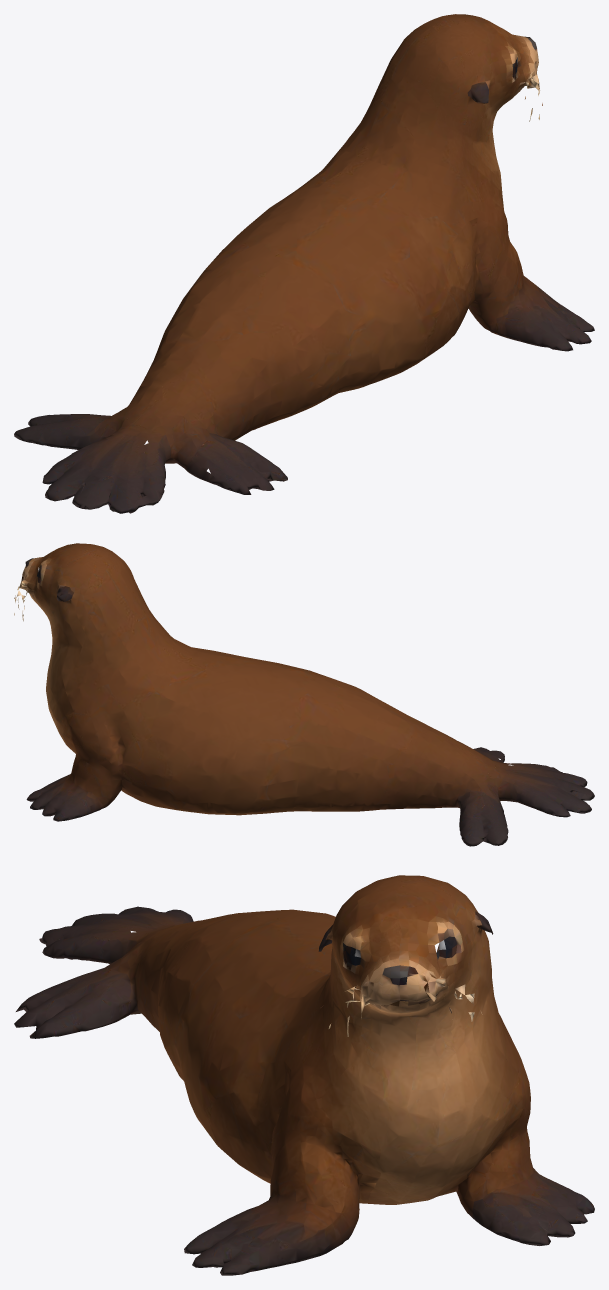
The model's file is sealion.glb.
3 views of the same model, one above another, from view 1: azimuth 30°, elevation 25°; view 2: azimuth 150°, elevation 25°; view 3: azimuth 270°, elevation 25° (orthographic). The views are drawn at different scales.
Visible parts, largest first — view 1: sealion; view 2: sealion; view 3: sealion.
Part boxes in pixels (box(x1,y1,x2,y2)): sealion: box(14, 14, 594, 513); sealion: box(14, 543, 594, 846); sealion: box(14, 875, 594, 1275).
Bounding box in the file's own units: 1.6 × 0.7157 × 1.06.
Materials: 1 (1 with a texture image).
